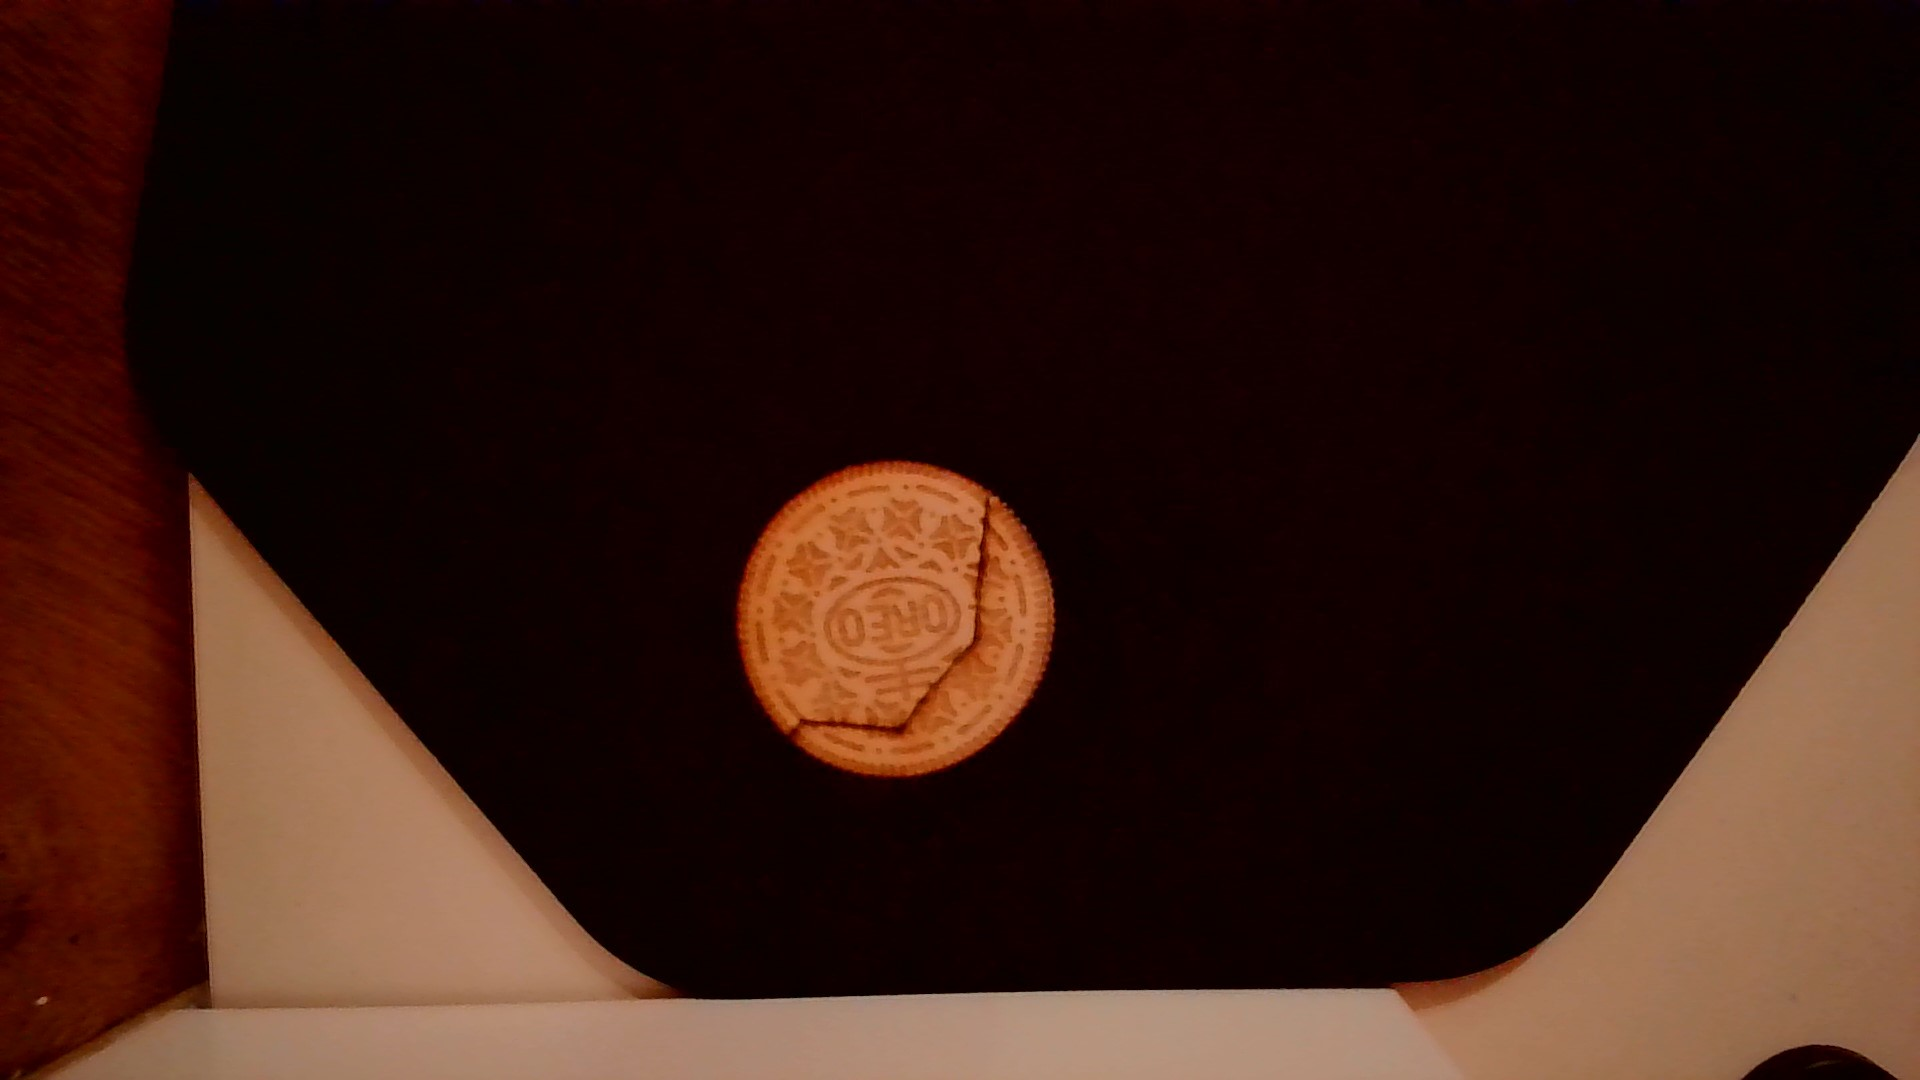Fissure: (770, 479, 996, 756)
Oréo: (723, 454, 1068, 789)
